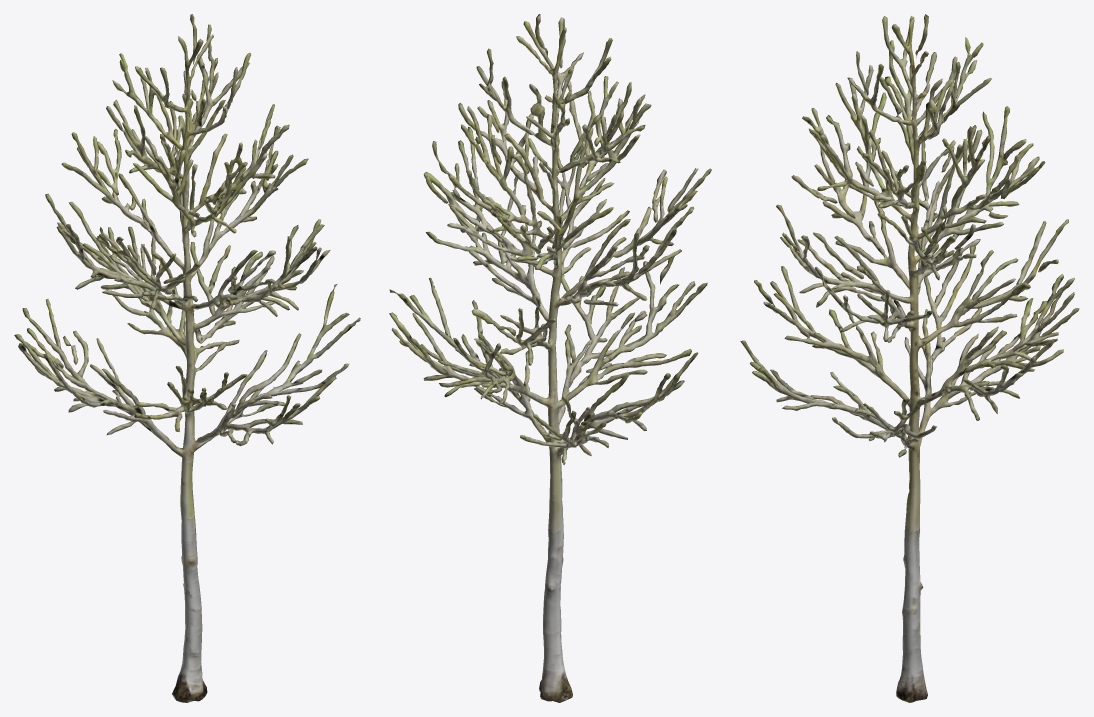
File: AI_QuakingAspen04.fbx
3 views of the same model, side by side, from view 1: azimuth 30°, elevation 25°; view 2: azimuth 150°, elevation 25°; view 3: azimuth 270°, elevation 25° (orthographic).
Visible parts, largest first — view 1: Mesh1.0; view 2: Mesh1.0; view 3: Mesh1.0.
Boxes of the visible parts, box(x1,y1,x2,y2) form: Mesh1.0: box(14, 14, 360, 702); Mesh1.0: box(389, 14, 711, 702); Mesh1.0: box(740, 14, 1079, 702).
Size of the model in its own units: 93.83 by 200 by 89.61.
1 material, 1 textured.
